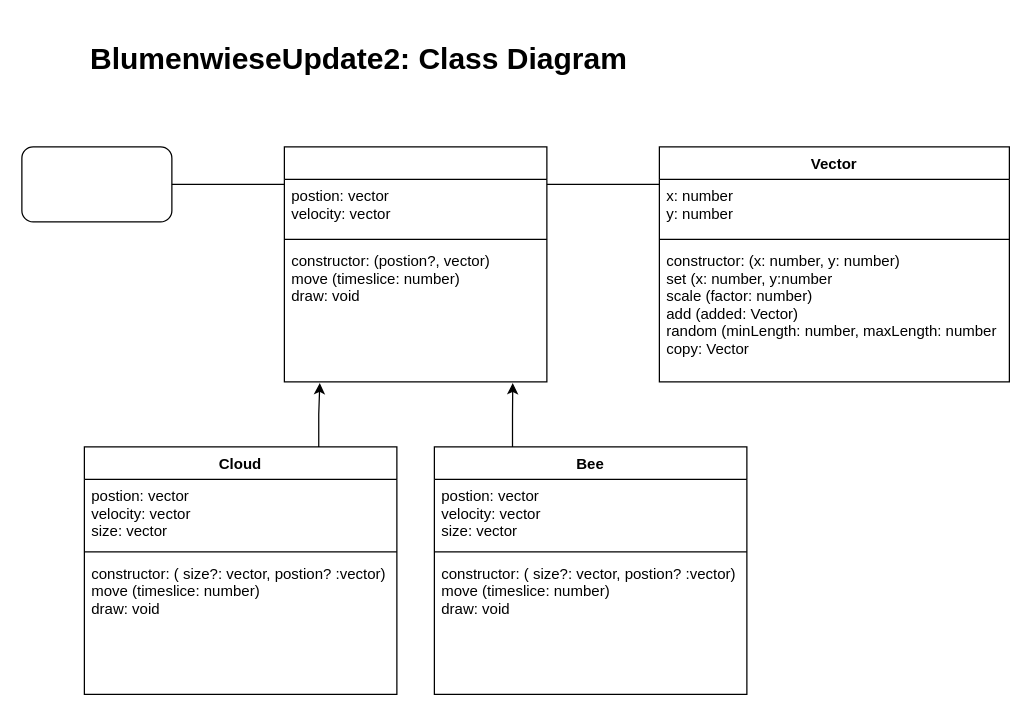
This 1031x719 diagram has some shape labels left out. Here are the shapes that lost their labels. From the top down, the box of each, then its label:
(21, 146, 172, 222): canvas rendering context
(283, 146, 547, 382): Movable
